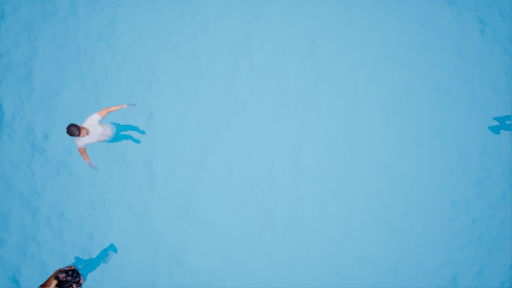person: (63, 95, 145, 162), (37, 236, 119, 288)
